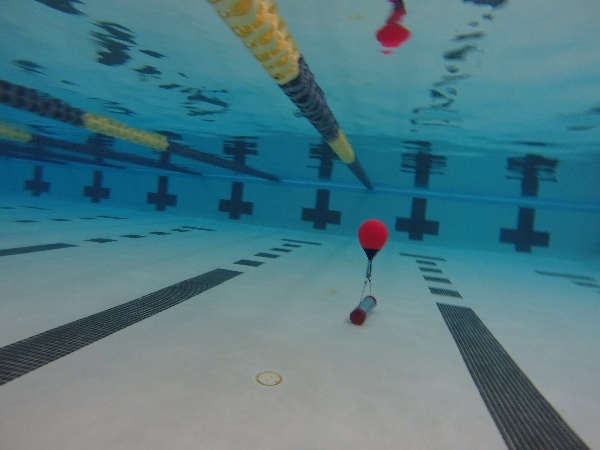buoy_red: (356, 217, 388, 261)
